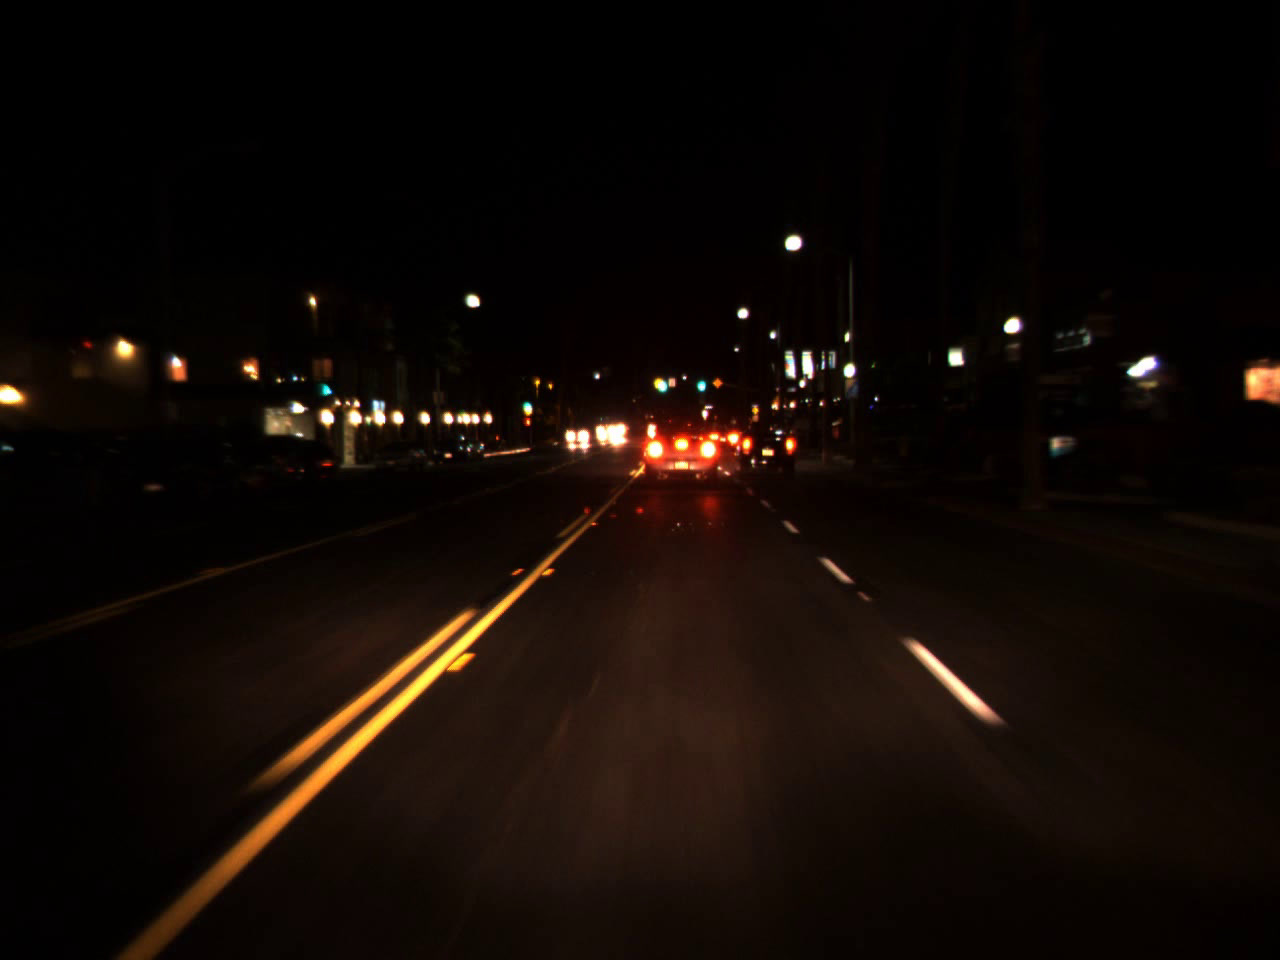go: (653, 370, 669, 394), (694, 368, 706, 395), (521, 396, 531, 408)
